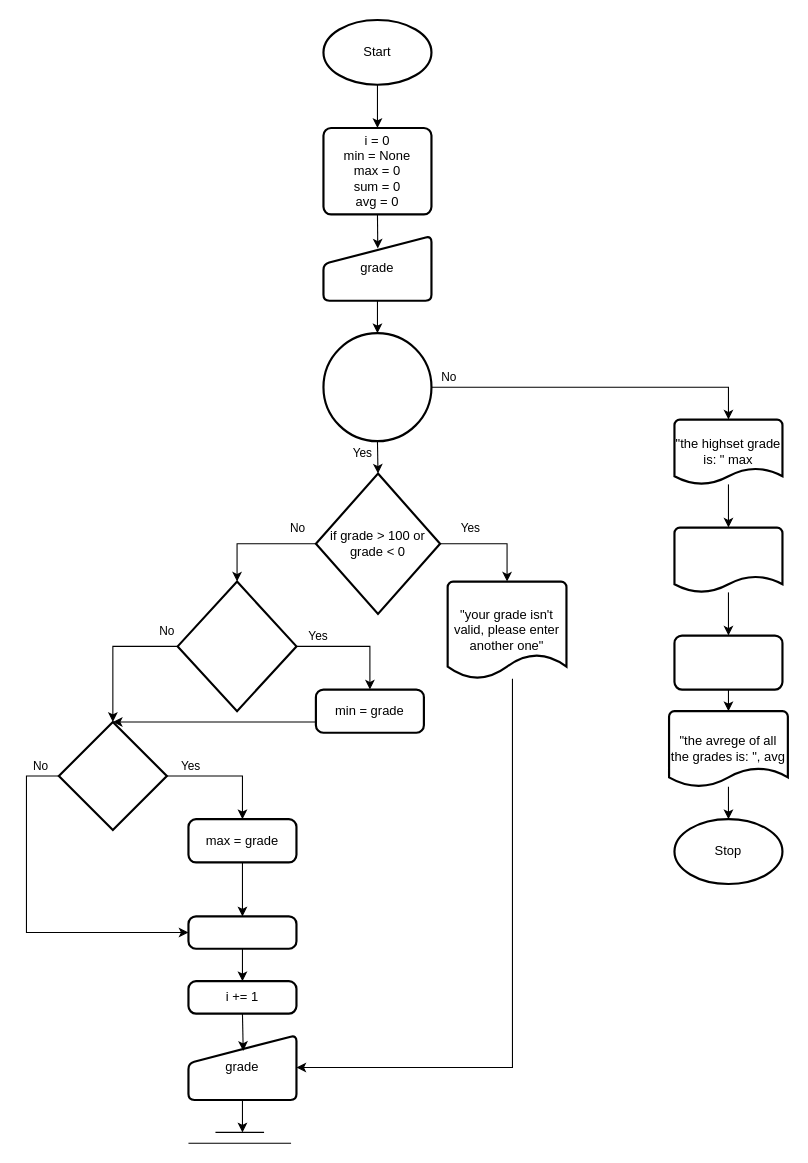
Image size: 808x1163. Some labels were removed from this diagram. The shapes that lost their labels are listed below. From the top down, each one's centre as x and y in pixels, then its label:
(x=377, y=387): While i < 20
(x=728, y=559): "the lowest grade is: " min
(x=236, y=646): if min is none or grade < min
(x=728, y=662): avg = sum / 20
(x=112, y=775): if grade > max
(x=242, y=932): sum = sum + grade
